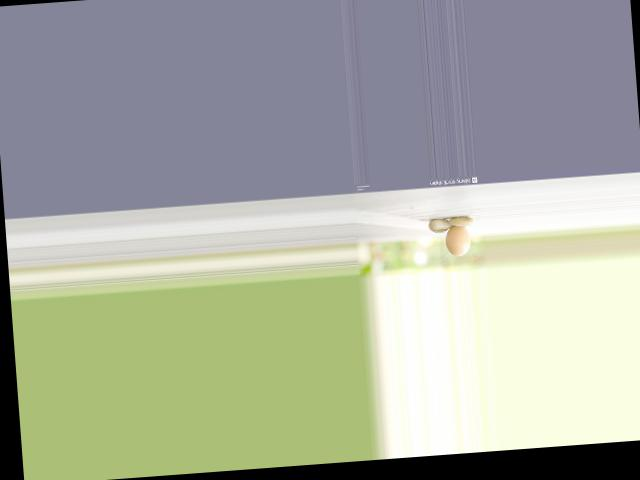egg: (443, 224, 471, 256)
